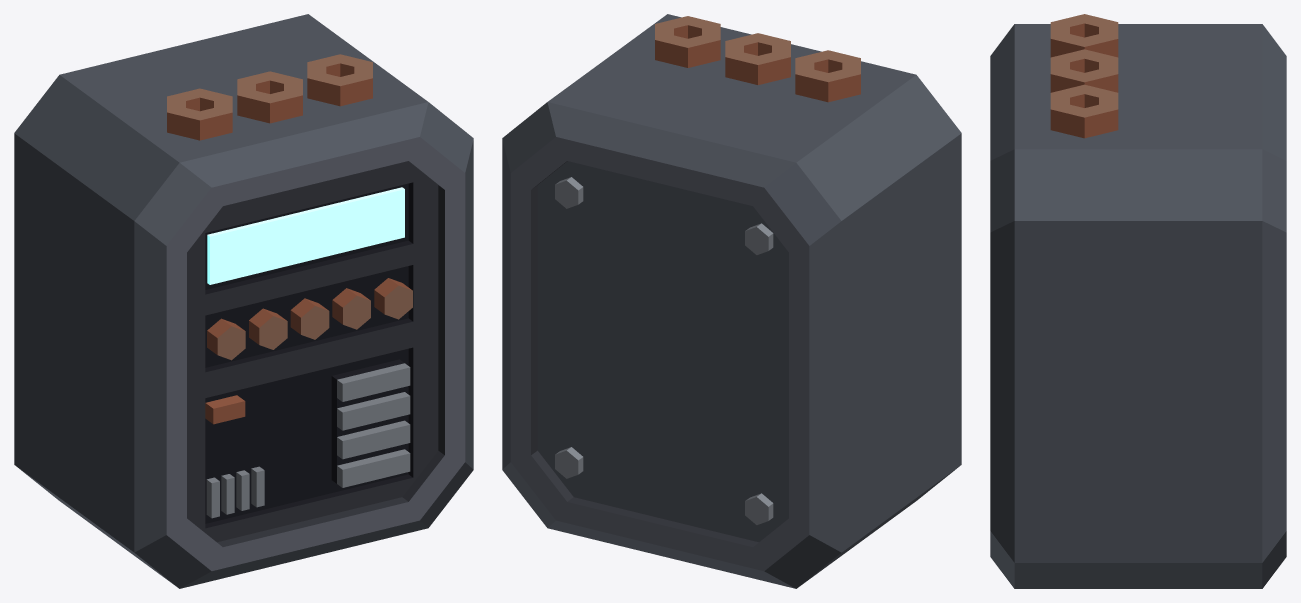
Rendered from battery-bank-b4d362.glb.
3 renders of one model, left to right at view 1: azimuth 30°, elevation 25°; view 2: azimuth 150°, elevation 25°; view 3: azimuth 270°, elevation 25°, orthographic. The views are drawn at different scales.
Parts seen in each view (by area): view 1: battery-bank-body, charge-bar, terminal-caps-mesh; view 2: battery-bank-body, terminal-caps-mesh; view 3: battery-bank-body, terminal-caps-mesh.
Boxes of the visible parts, x1,y1,x2,y2 form: battery-bank-body: (14, 14, 473, 588); charge-bar: (207, 187, 404, 284); terminal-caps-mesh: (167, 54, 372, 140); battery-bank-body: (502, 14, 961, 588); terminal-caps-mesh: (655, 16, 860, 102); battery-bank-body: (990, 24, 1286, 588); terminal-caps-mesh: (1050, 14, 1118, 138).
Bounding box in the file's own units: 1.5 × 1.88 × 1.1.
